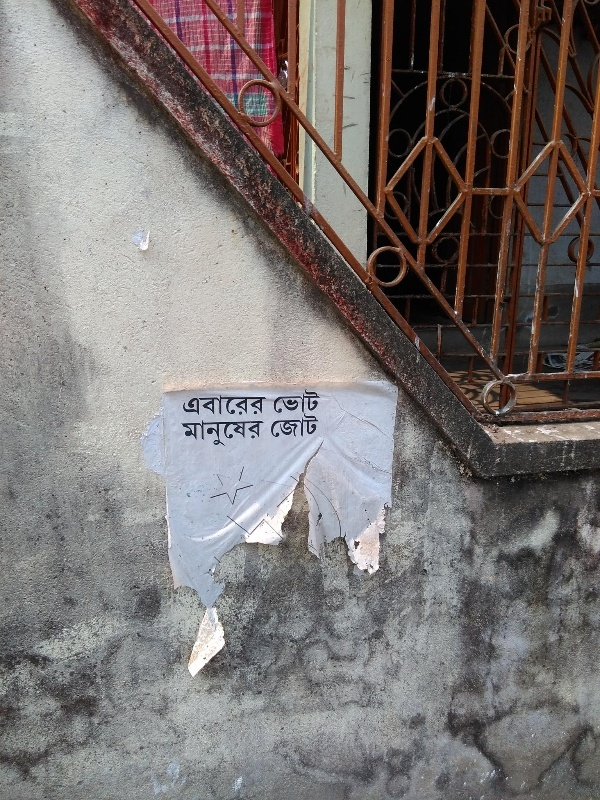text: (193, 418, 208, 449), (209, 418, 224, 449), (225, 418, 240, 449), (241, 418, 256, 449), (273, 413, 288, 440), (289, 413, 304, 440), (305, 413, 320, 440), (289, 388, 304, 413), (305, 388, 320, 413), (274, 388, 288, 413), (193, 394, 208, 417), (209, 394, 224, 417), (225, 394, 240, 417), (241, 394, 256, 417), (181, 418, 192, 449), (257, 394, 268, 417), (257, 418, 265, 449), (183, 394, 192, 417), (271, 413, 272, 440), (321, 388, 322, 413)
